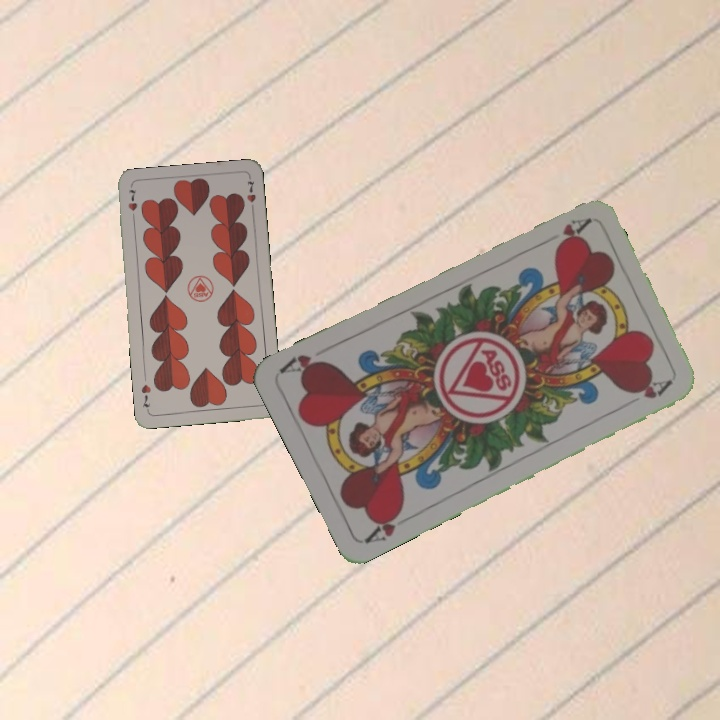H7: (124, 185, 140, 224)
HA: (360, 504, 407, 546), (536, 215, 592, 248)
